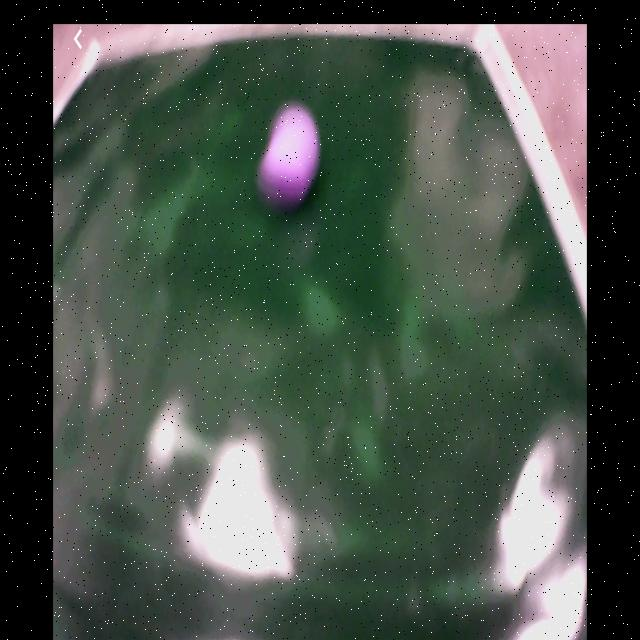ball: (273, 103, 322, 192)
